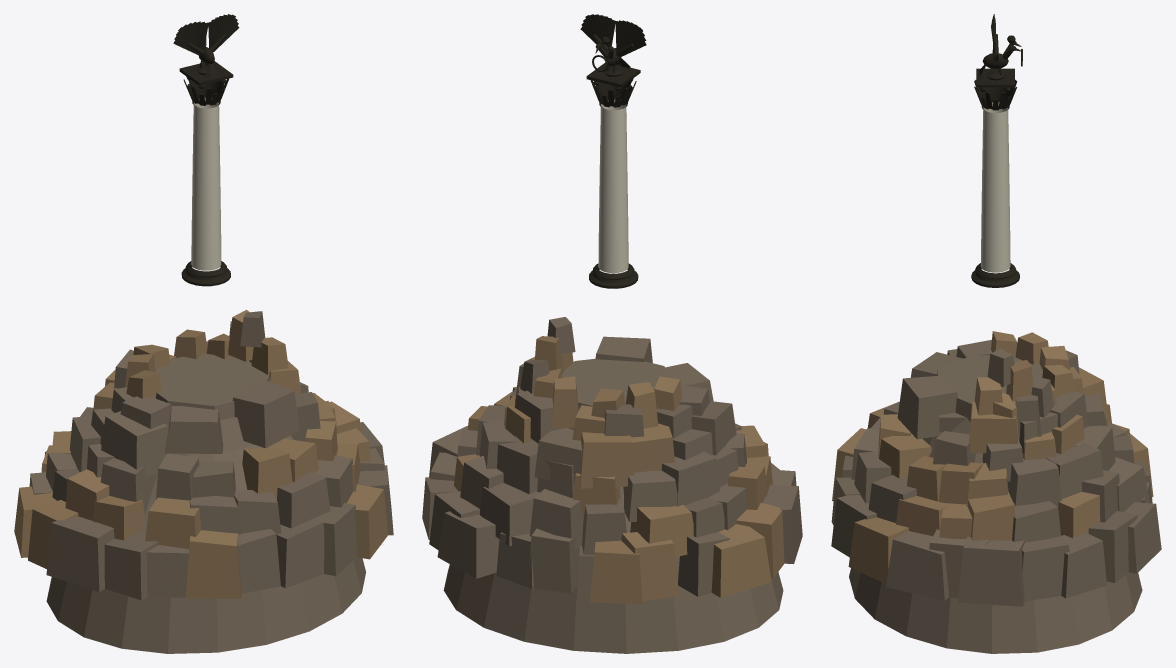
Rendered from sunken_ships.lod.glb.
3 renders of one model, left to right at view 1: azimuth 30°, elevation 25°; view 2: azimuth 150°, elevation 25°; view 3: azimuth 270°, elevation 25°, orthographic. The views are drawn at different scales.
Visible parts, largest first — view 1: sunken_ships_stone, sunken_ships_wall, sunken_ships_wall2_s, sunken_ships_wall3_s; view 2: sunken_ships_stone, sunken_ships_wall, sunken_ships_wall2_s, sunken_ships_wall3_s; view 3: sunken_ships_stone, sunken_ships_wall, sunken_ships_wall2_s, sunken_ships_wall3_s.
Boxes of the visible parts, box(x1,y1,x2,y2) form: sunken_ships_stone: box(29, 311, 393, 653); sunken_ships_wall: box(14, 309, 388, 598); sunken_ships_wall2_s: box(191, 98, 221, 270); sunken_ships_wall3_s: box(173, 14, 239, 286); sunken_ships_stone: box(422, 317, 802, 653); sunken_ships_wall: box(454, 336, 784, 603); sunken_ships_wall2_s: box(598, 99, 628, 273); sunken_ships_wall3_s: box(580, 14, 646, 288); sunken_ships_stone: box(831, 339, 1161, 653); sunken_ships_wall: box(832, 331, 1153, 583); sunken_ships_wall2_s: box(981, 102, 1010, 272); sunken_ships_wall3_s: box(971, 14, 1022, 287).
Bounding box in the file's own units: 12.48 × 19.77 × 10.57.
